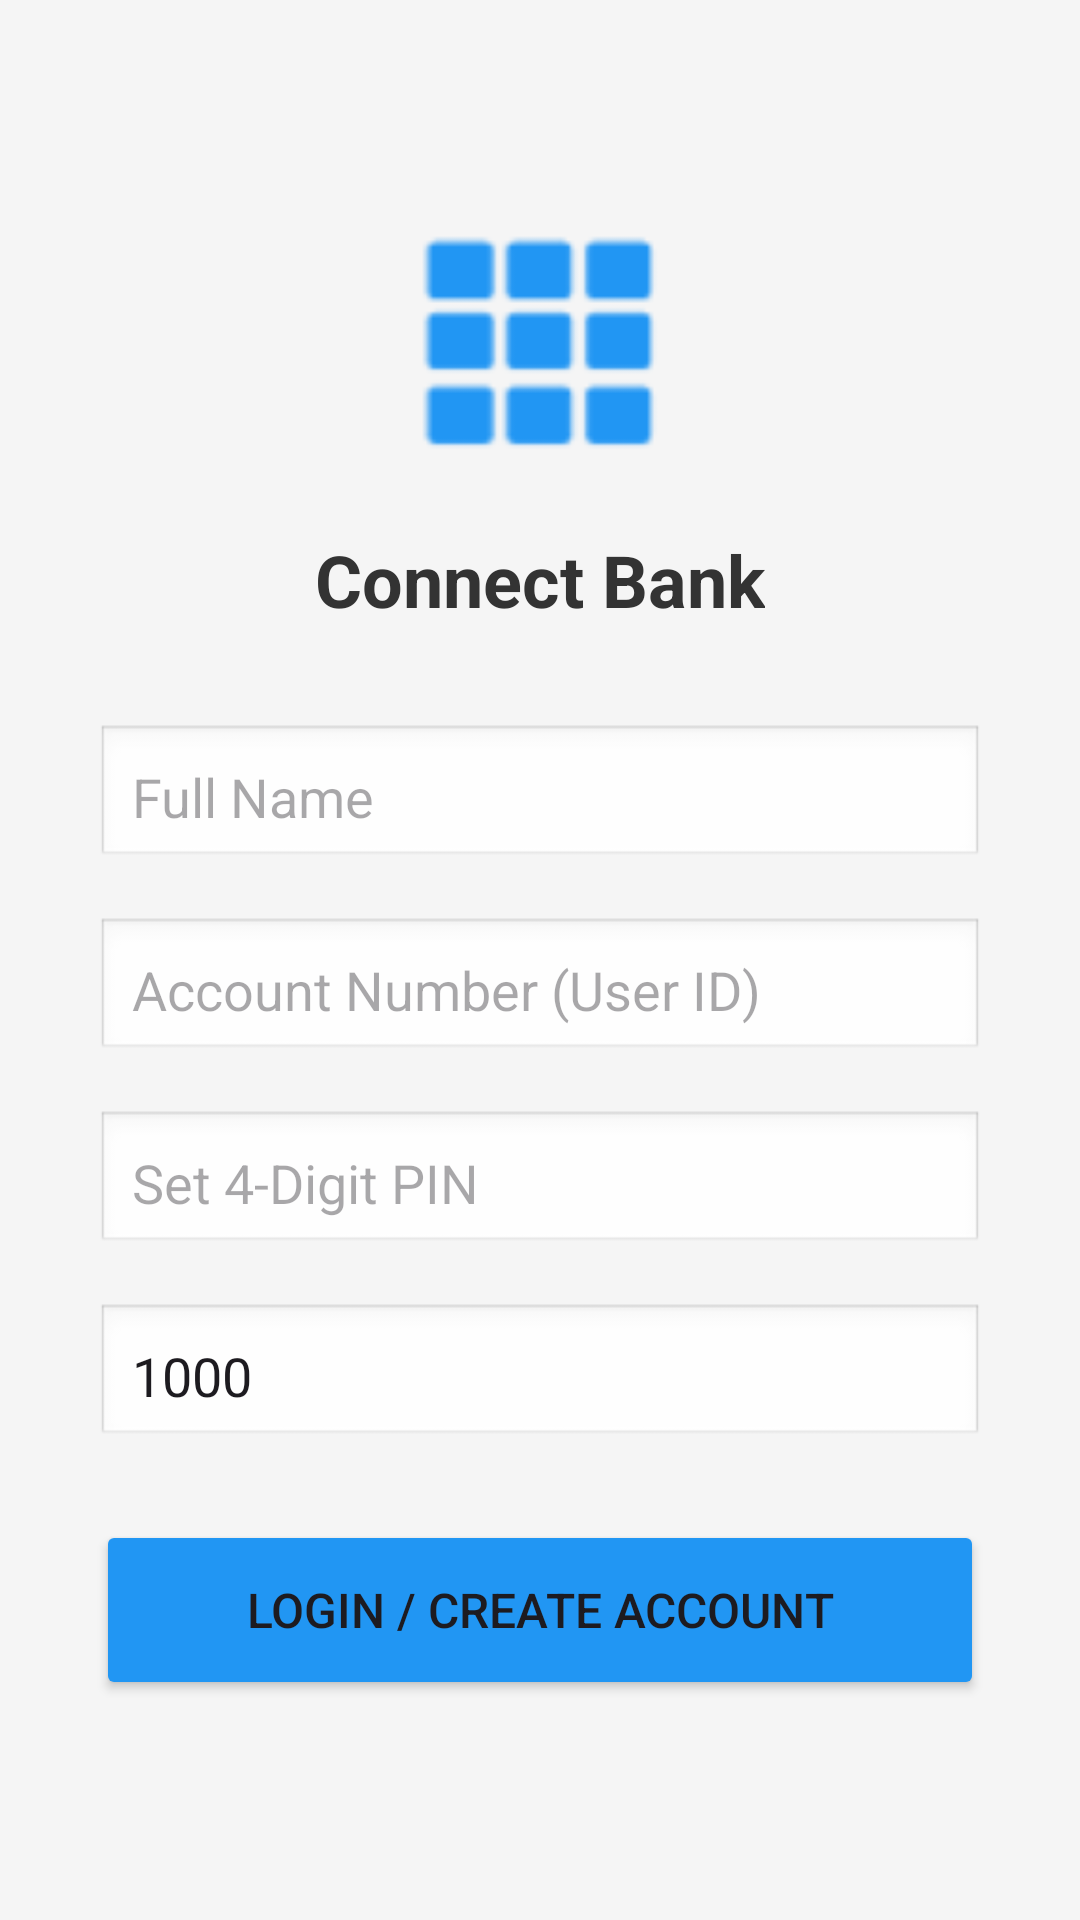

Named icons in this screenshot (1080w x 1920h) and their centers, point (x, y):
dialer: point (538, 342)
